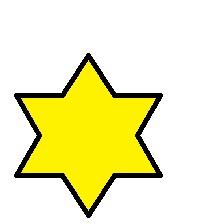star: (12, 52, 164, 218)
